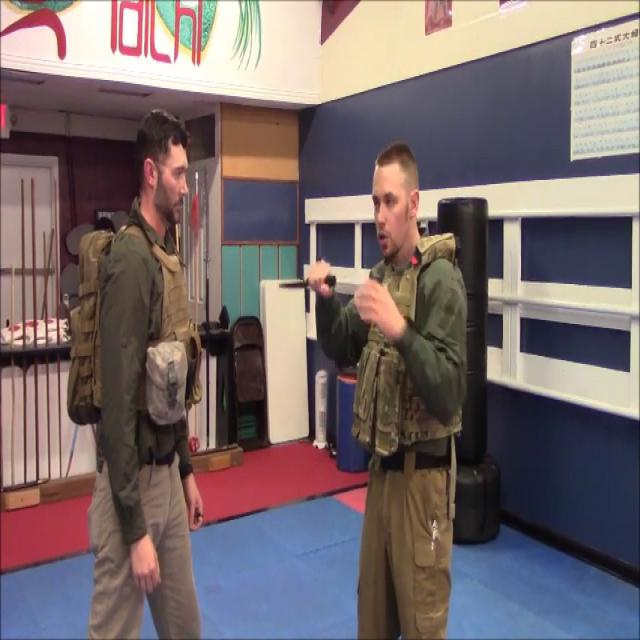knife: (269, 260, 343, 302)
